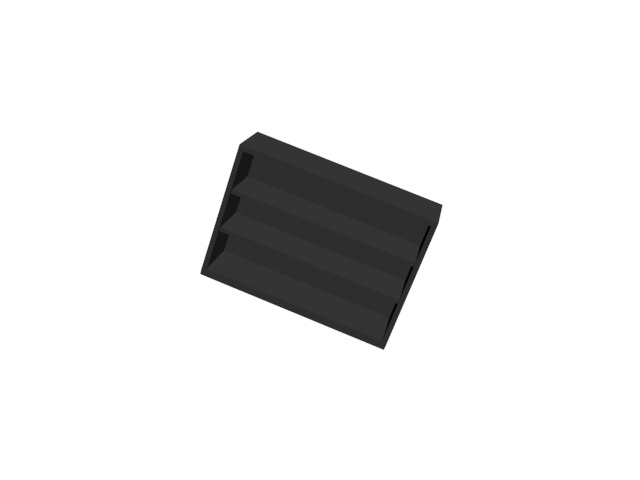bookcase: (201, 129, 448, 352)
